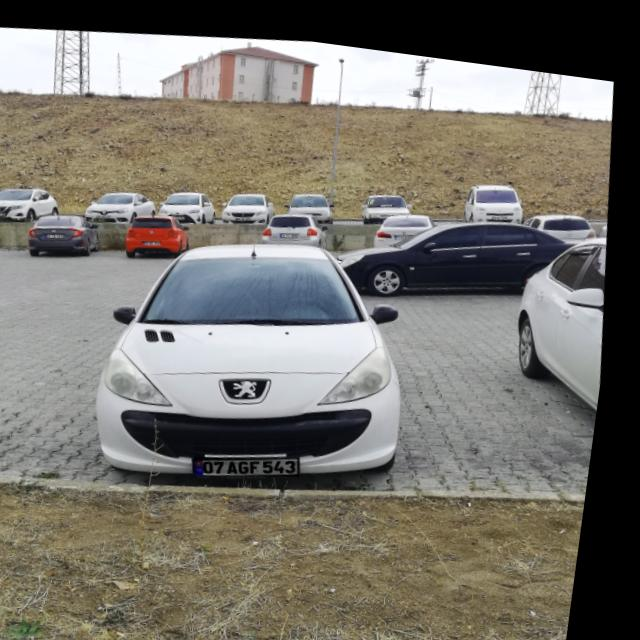license_plate: (203, 440, 312, 476)
